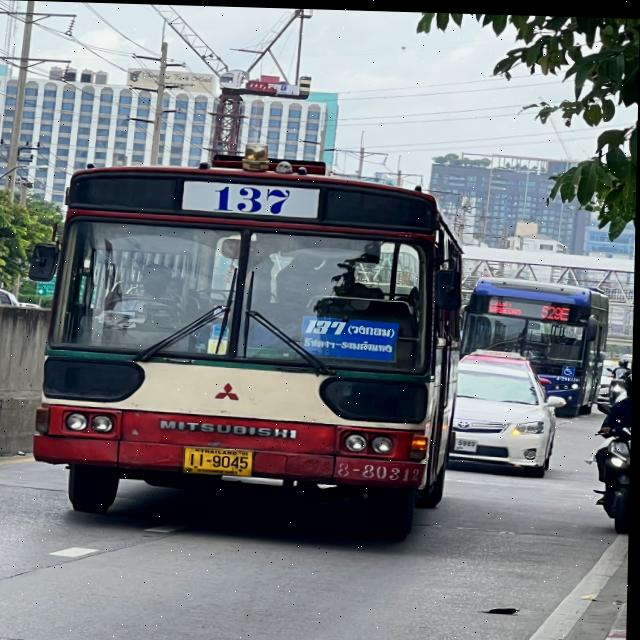BMTA-bus: (32, 163, 466, 542)
Bus-Line-Number: (204, 178, 299, 222), (536, 298, 575, 321)
Destination-Sign-Normal: (300, 312, 401, 360), (485, 295, 528, 313)
TSB-Bus: (462, 274, 610, 418)
